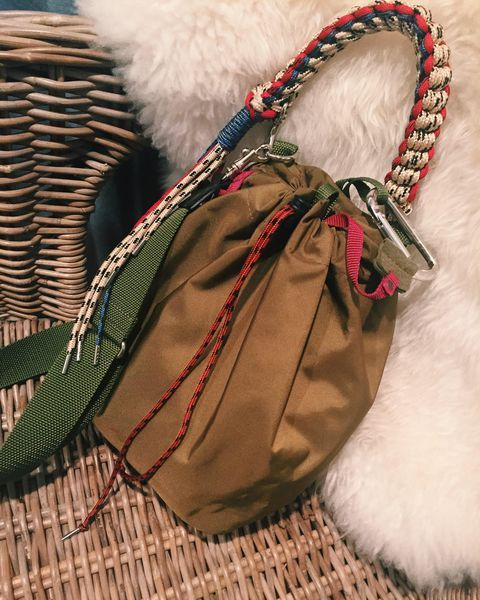nylon: (2, 156, 399, 534)
